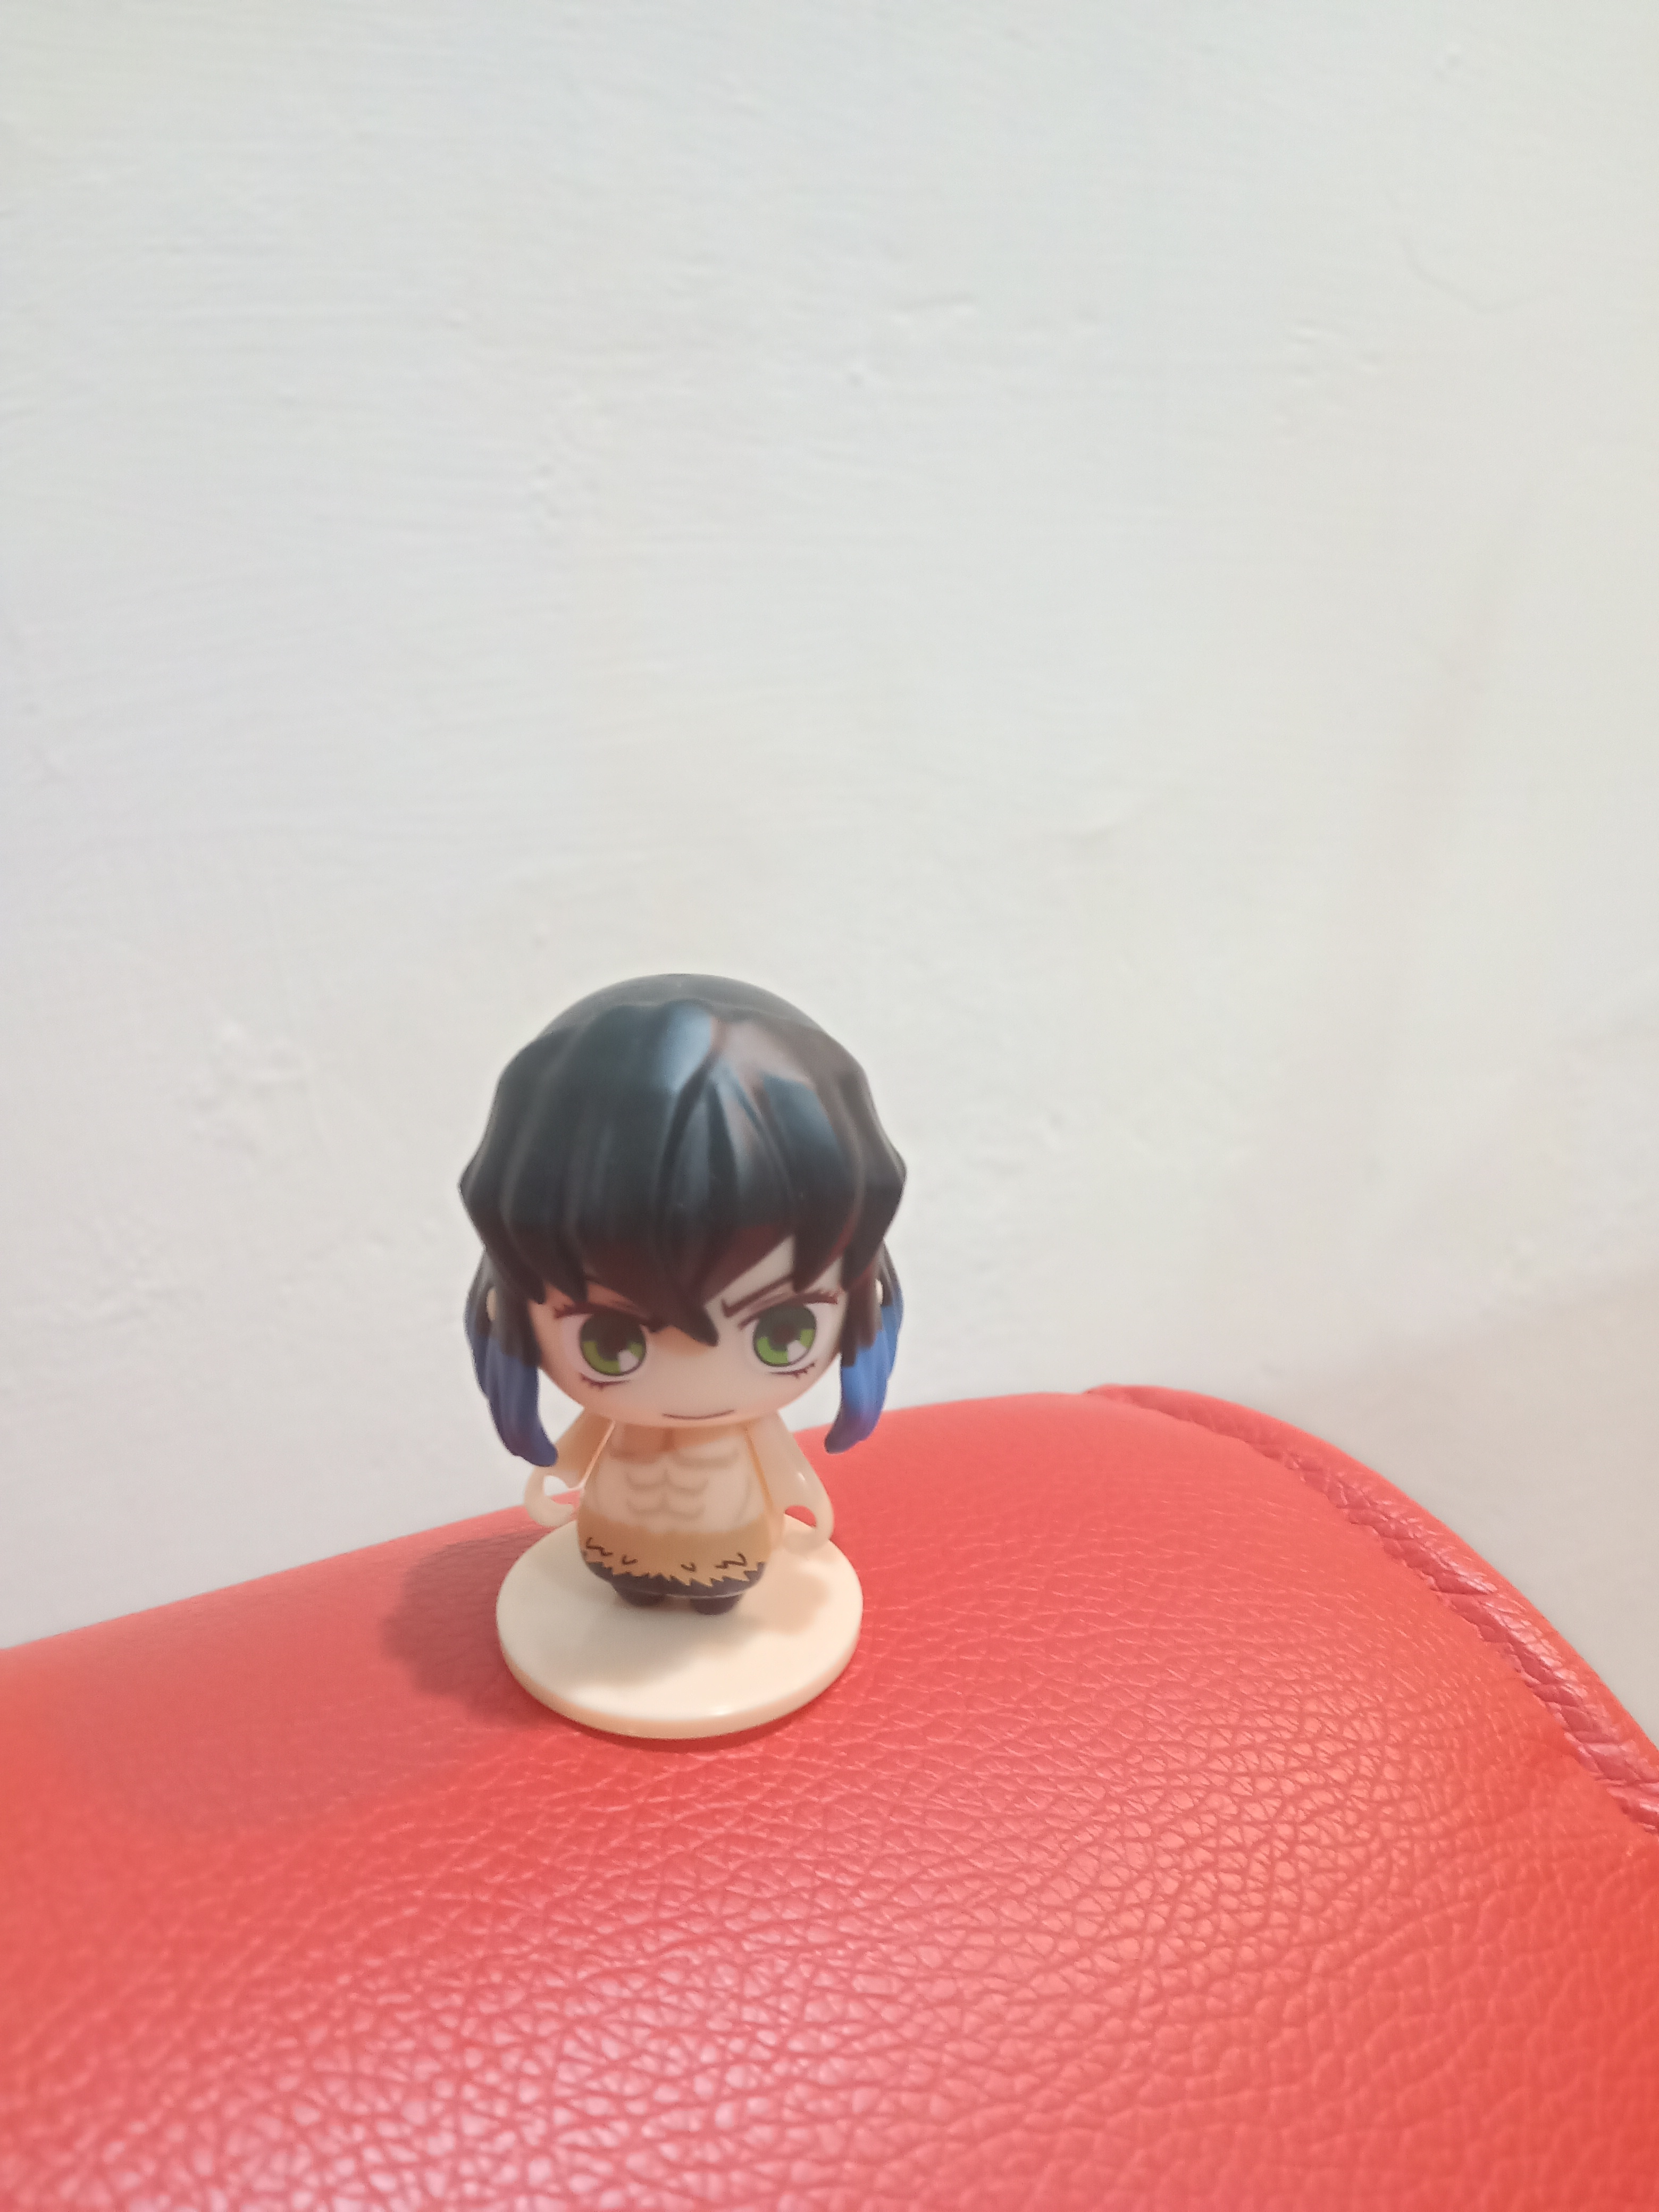Inosuke: (448, 965, 932, 1757)
